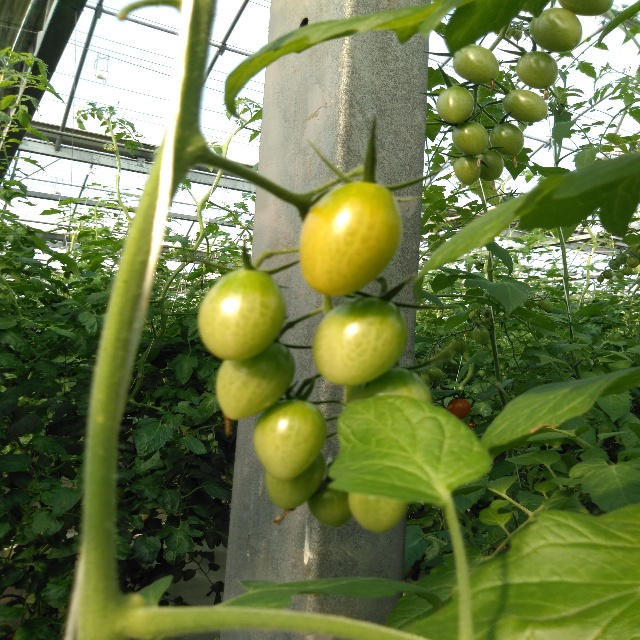l_fully_ripened: (448, 398, 470, 419)
l_green: (312, 297, 408, 385), (197, 269, 285, 360), (214, 341, 295, 420), (253, 399, 327, 480), (345, 365, 433, 407), (265, 450, 324, 510), (348, 492, 409, 533), (529, 7, 582, 53), (308, 480, 353, 527), (452, 44, 499, 84), (515, 50, 559, 90), (502, 89, 549, 122), (436, 86, 474, 124), (451, 121, 489, 155), (489, 123, 524, 156), (474, 150, 504, 181), (558, 0, 613, 16), (454, 155, 482, 186), (472, 326, 490, 345), (451, 337, 467, 353), (427, 367, 445, 380)
l_half_ripened: (298, 181, 403, 296)
